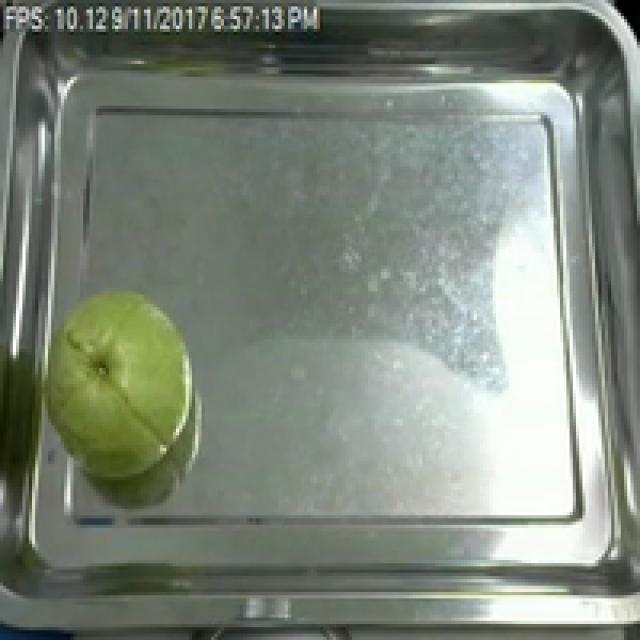Fruit: (29, 272, 214, 493)
